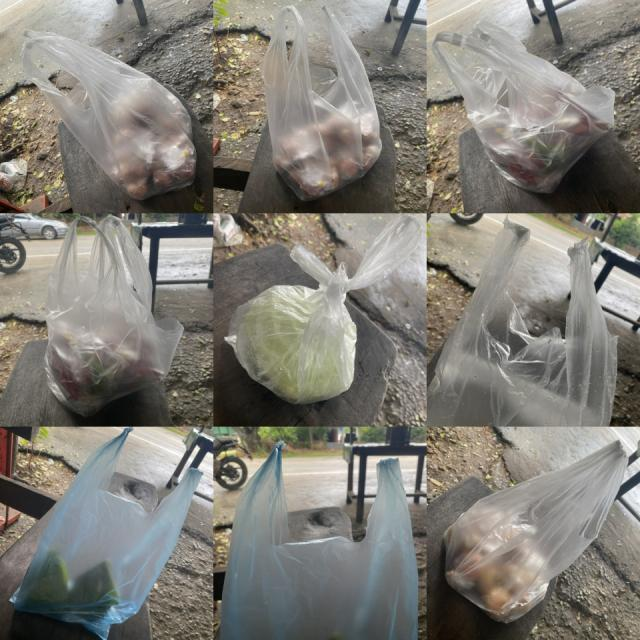Single-layer Plastic: (11, 428, 202, 640), (428, 219, 616, 426), (220, 444, 418, 640), (226, 215, 421, 404), (446, 441, 628, 622), (431, 22, 615, 192), (22, 30, 196, 200), (45, 215, 182, 416), (262, 6, 381, 201)
